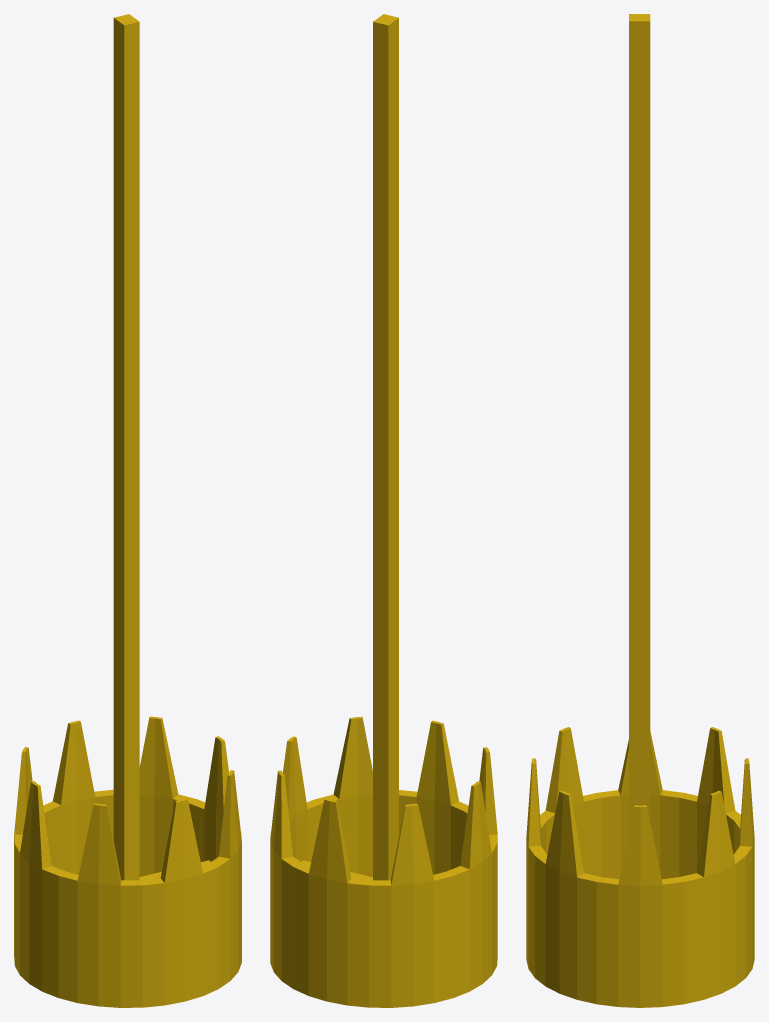
Rendered from Crown.fbx.
3 views of the same model, side by side, from view 1: azimuth 30°, elevation 25°; view 2: azimuth 150°, elevation 25°; view 3: azimuth 270°, elevation 25° (orthographic).
Visible parts, largest first — view 1: Corona; view 2: Corona; view 3: Corona.
Boxes of the visible parts, x1=… form: Corona: x1=14, y1=14, x2=241, y2=1007; Corona: x1=270, y1=14, x2=497, y2=1007; Corona: x1=526, y1=14, x2=754, y2=1007.
Bounding box in the file's own units: 200 × 910 × 200.
1 material, 1 textured.
